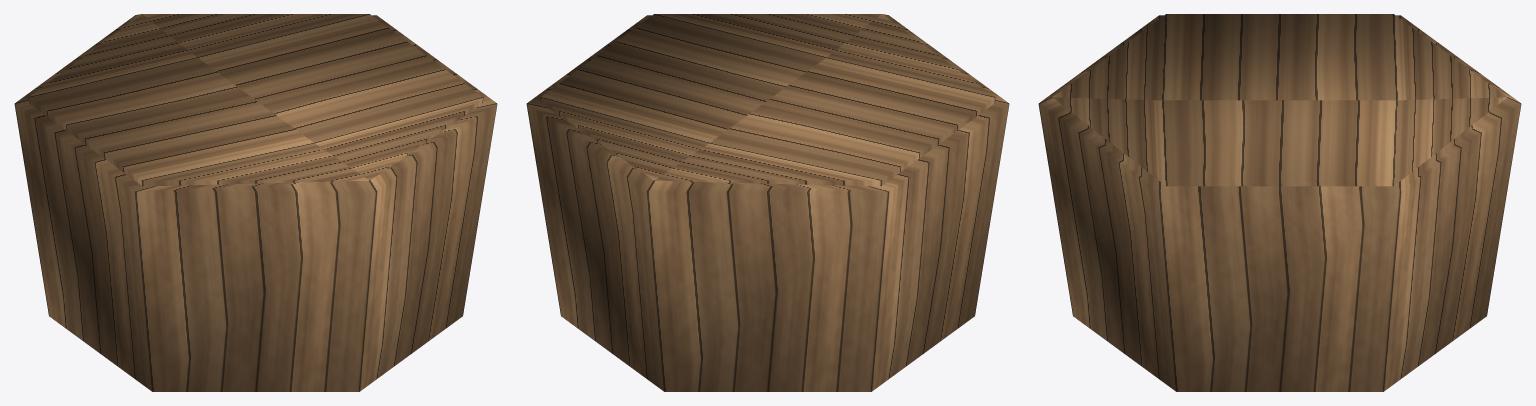
The model's file is Tub_Wood_1_LOD2.gltf.
3 views of the same model, side by side, from view 1: azimuth 30°, elevation 25°; view 2: azimuth 150°, elevation 25°; view 3: azimuth 270°, elevation 25° (orthographic).
Parts seen in each view (by area): view 1: Tub_Wood_1_LOD2; view 2: Tub_Wood_1_LOD2; view 3: Tub_Wood_1_LOD2.
Part boxes in pixels (<box>): Tub_Wood_1_LOD2: <box>14,14,497,391</box>; Tub_Wood_1_LOD2: <box>526,14,1009,391</box>; Tub_Wood_1_LOD2: <box>1038,14,1521,391</box>.
Size of the model in its own units: 1.21 by 0.7 by 1.4.
1 material, 1 textured.
